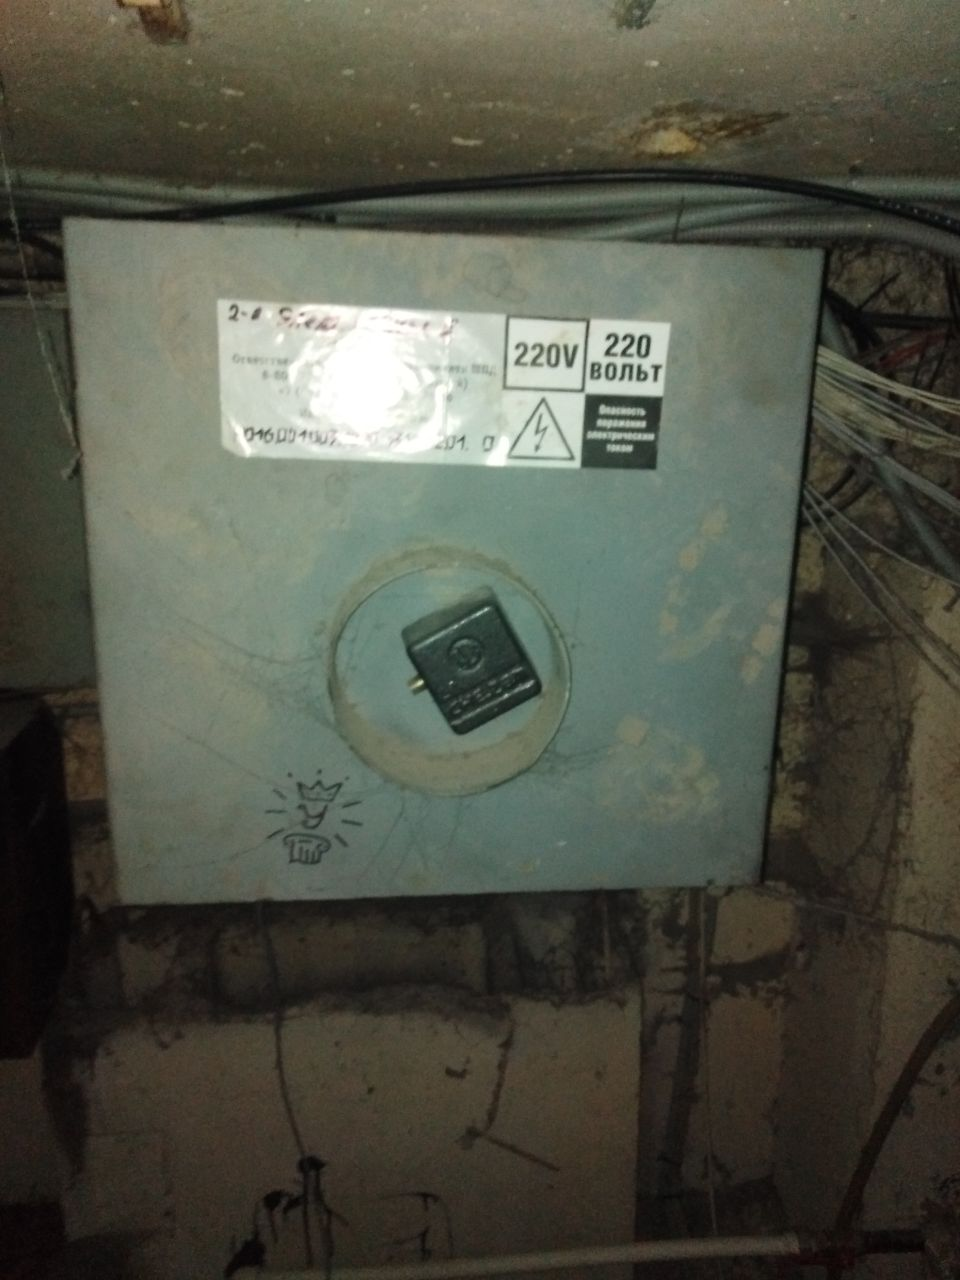shta-9: (50, 200, 841, 919)
